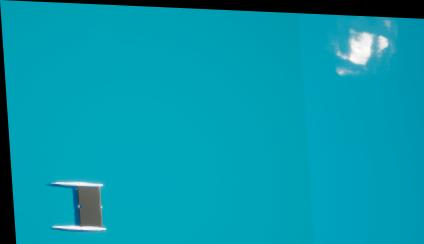boat: (41, 176, 106, 237)
drone: (75, 187, 98, 226)
land_base: (313, 12, 416, 90)
